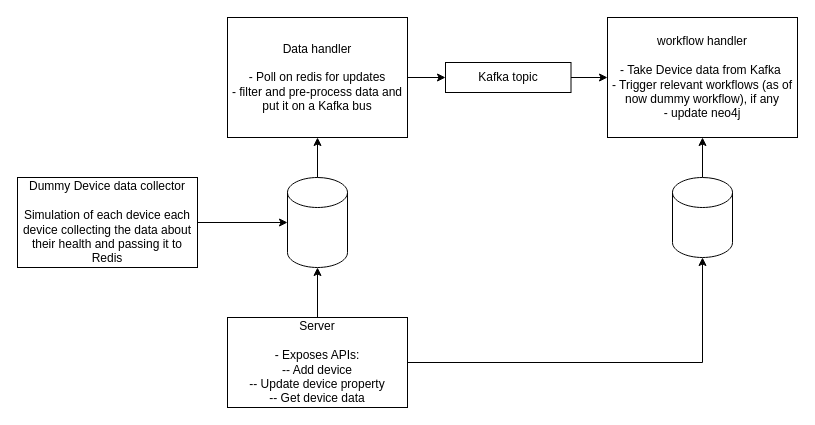
The diagram is 815 pixels wide and 425 high, and some of its shapes have lost their labels. The shapes that lost their labels are listed below. From the top down, each one's centre as x and y in pixels, then its label:
At point (317, 222): "Redis".
At point (702, 217): "Neo4j".
